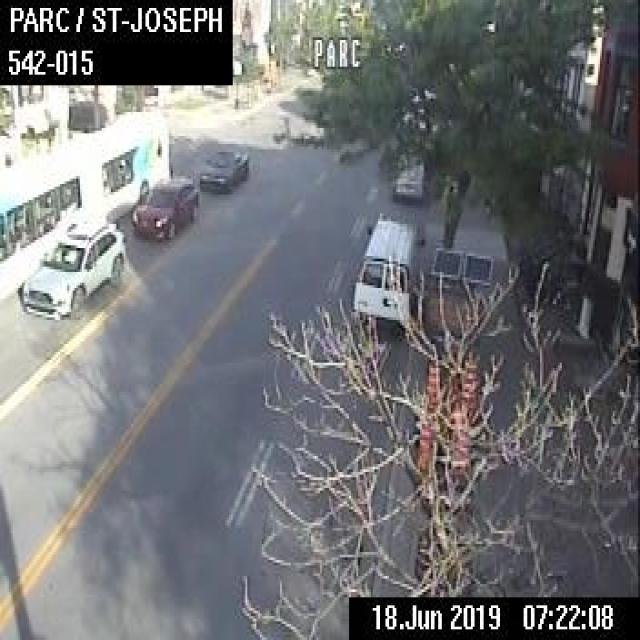bus: (0, 109, 169, 299)
construction: (411, 248, 492, 455), (454, 429, 470, 488), (461, 357, 477, 414), (416, 421, 432, 471), (426, 358, 439, 412)
vehicle: (19, 217, 125, 317), (351, 211, 423, 325), (132, 175, 197, 234), (198, 146, 247, 193), (389, 160, 425, 202)
